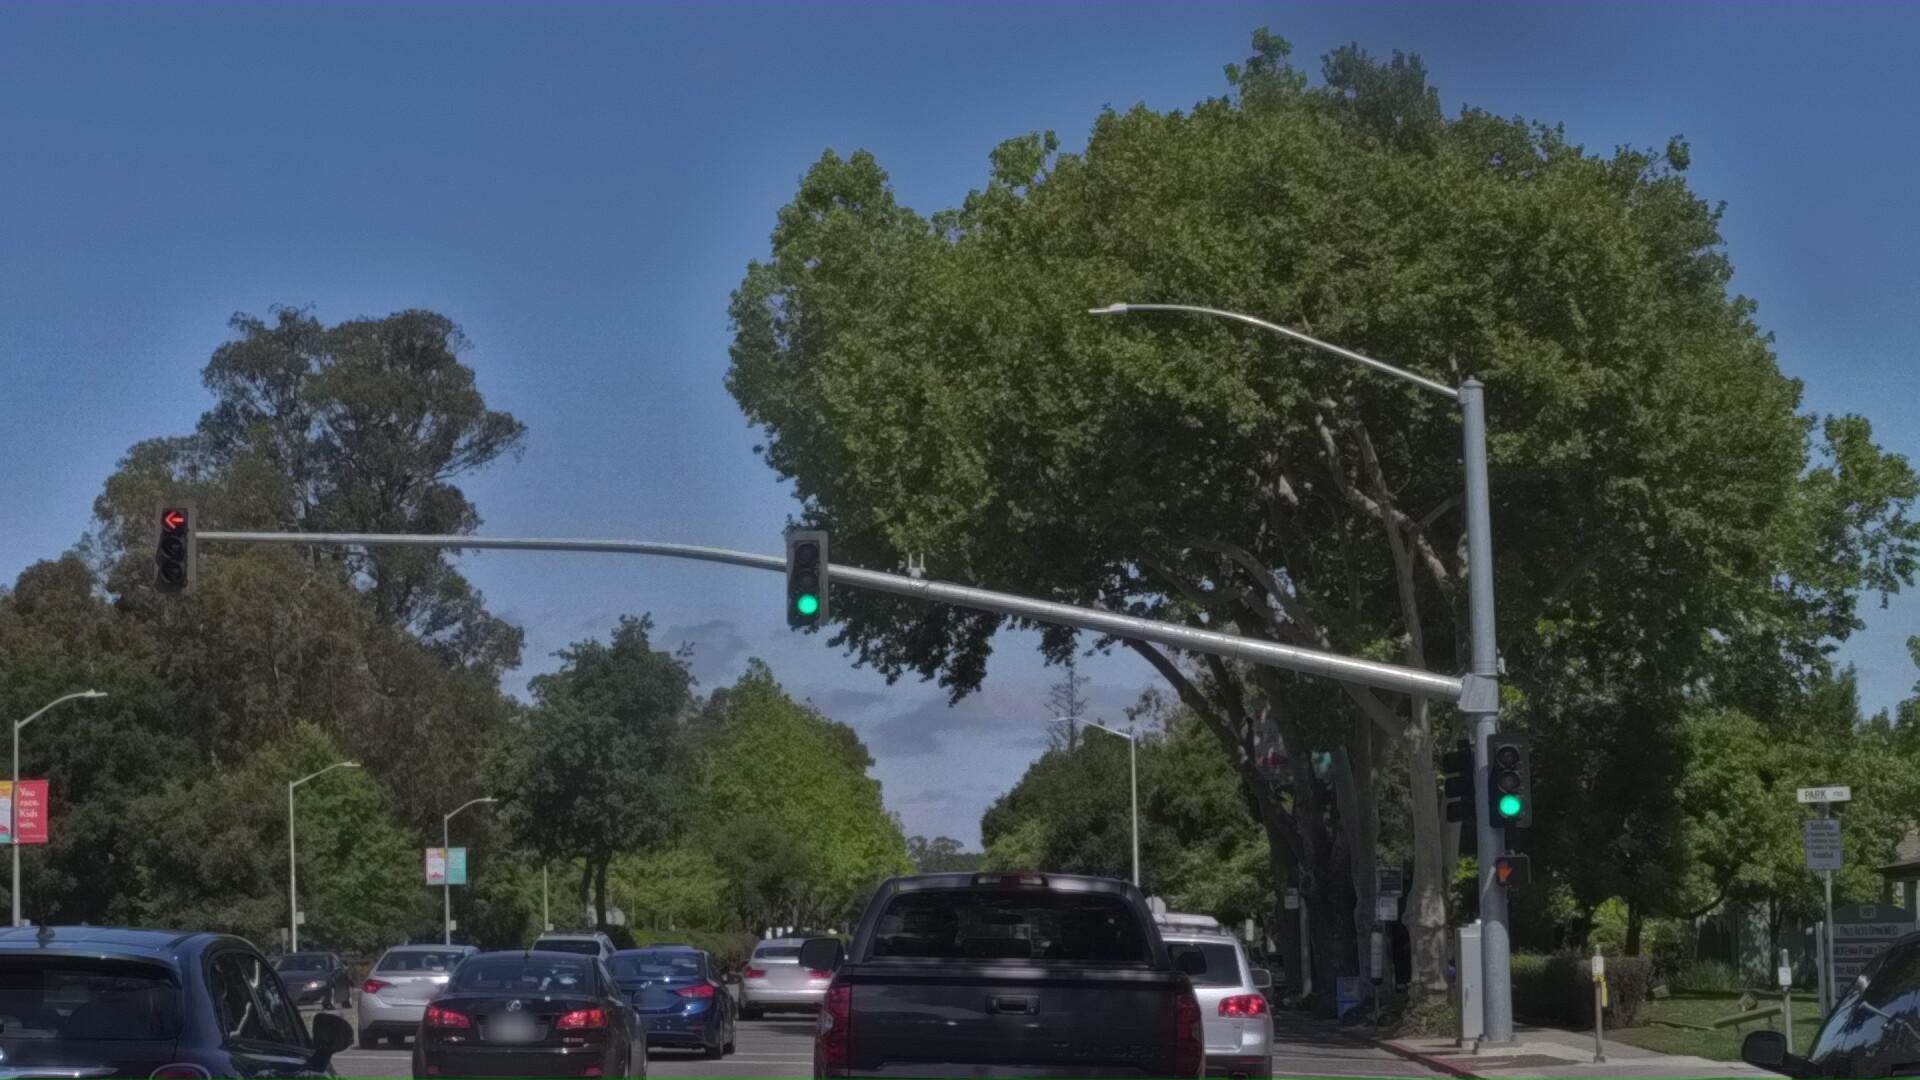car: (775, 840, 1226, 1080), (0, 915, 427, 1080), (1648, 895, 1920, 1080), (1046, 945, 1269, 1080), (415, 982, 676, 1080), (357, 964, 514, 1079), (589, 984, 760, 1080), (748, 960, 861, 1060), (513, 932, 624, 1034), (1912, 603, 1920, 1080)
